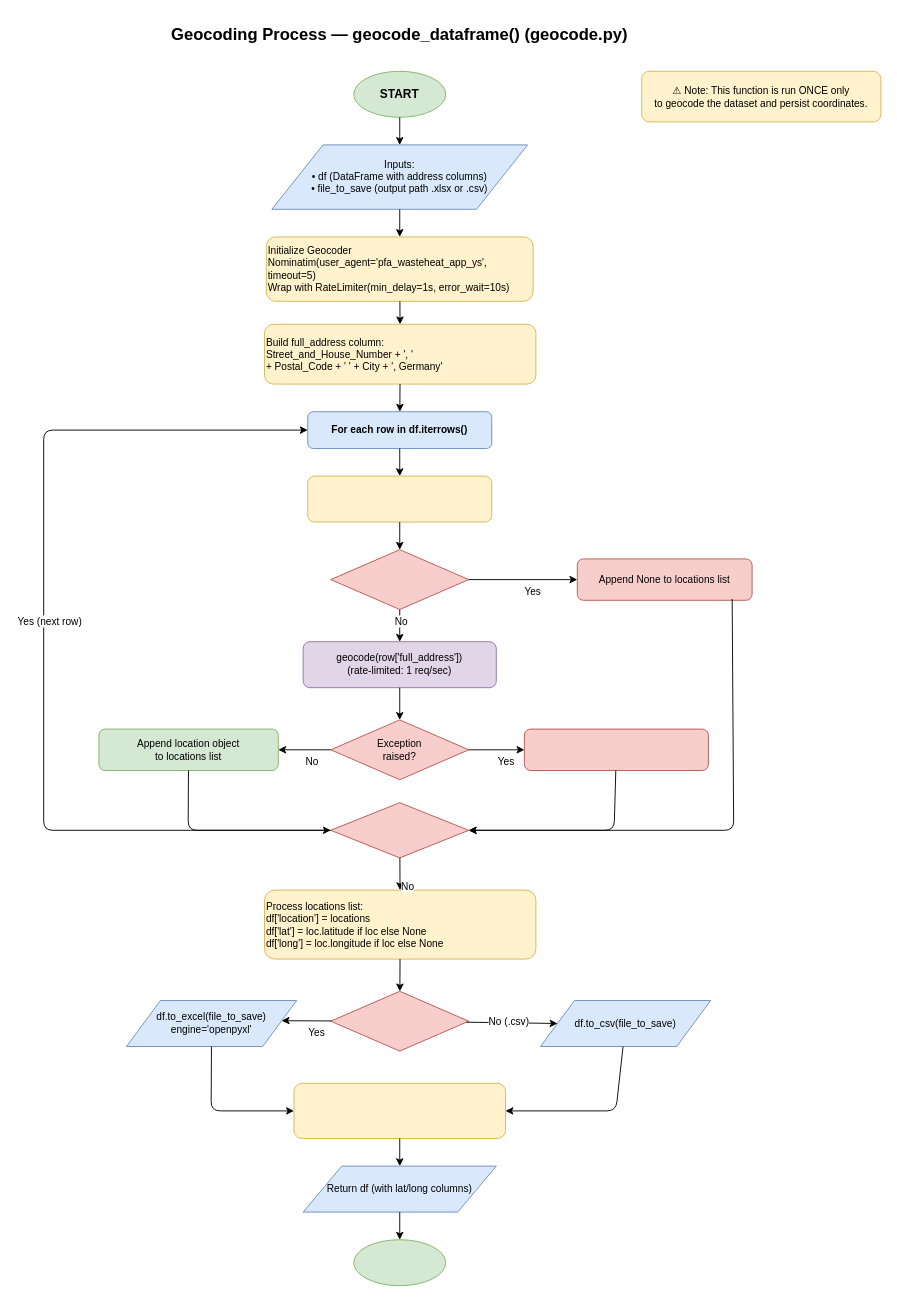
Image size: 897x1302. Some labels were removed from this diagram. The shapes that lost their labels are listed below. From the top down, each one's centre as x and y in pixels, then its label:
At point 399,498: "Print progress every 10 rows (i+1) % 10 == 0 → print status".
At point 399,579: "Address blank/empty?".
At point 615,749: "Print error message Append None to locations list".
At point 399,830: "More rows?".
At point 399,1020: "file_to_save ends with .xlsx?".
At point 399,1110: "Print Summary: • Duration (minutes) • found_count / total rows geocoded".
At point 399,1262: "END".
